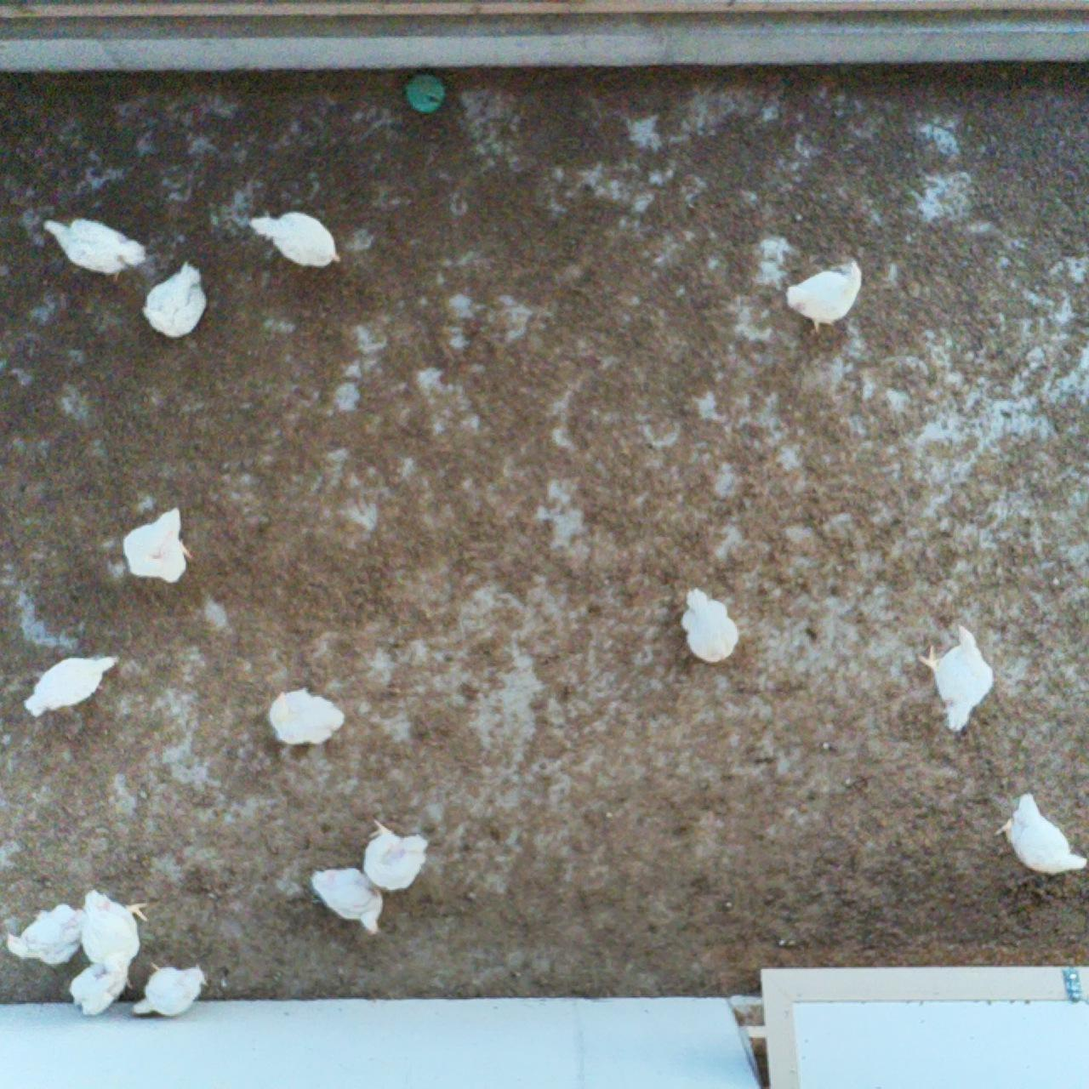chicken: (995, 784, 1089, 877), (919, 621, 997, 732), (38, 216, 151, 282), (22, 653, 118, 718), (79, 888, 151, 972), (247, 208, 344, 270), (781, 256, 860, 330), (120, 505, 193, 584), (308, 863, 385, 937), (4, 901, 89, 967), (141, 261, 211, 341), (128, 960, 211, 1025), (359, 817, 428, 894), (678, 585, 739, 663), (269, 687, 347, 747), (65, 959, 131, 1017)
